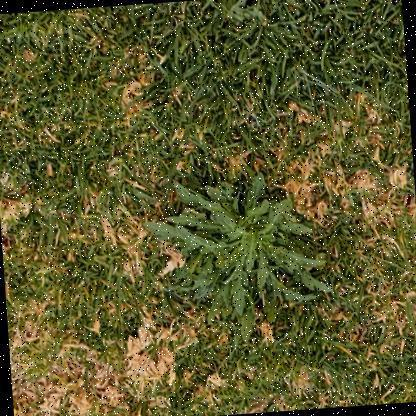Weeds: (141, 163, 335, 349)
